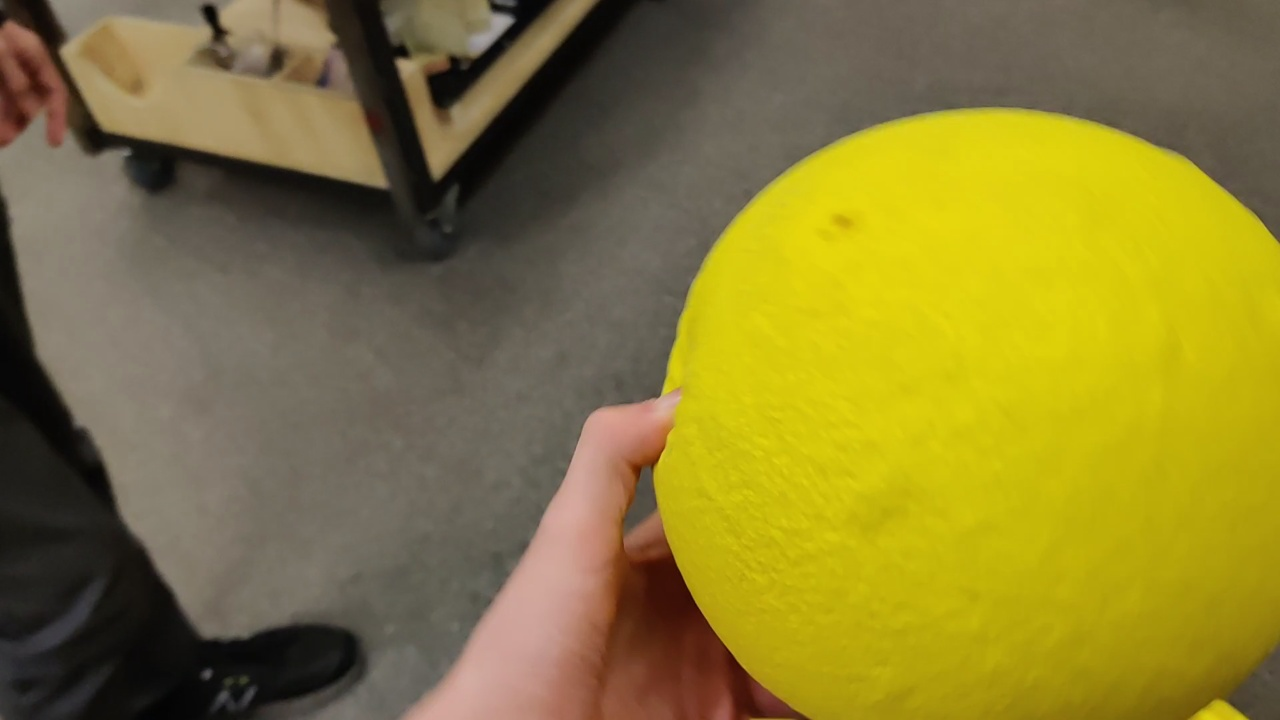Ball: (651, 102, 1276, 720)
